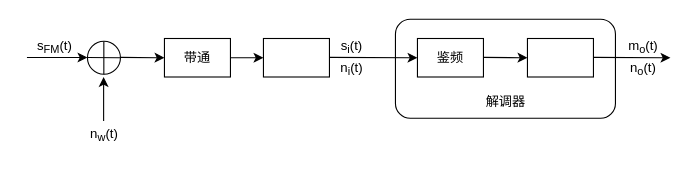
The diagram is 699 pixels wide and 171 high, and some of its shapes have lost their labels. The centre of each missing label's shape, as x and y in pixels:
低通: the point at 559,57
限幅: the point at 295,57
